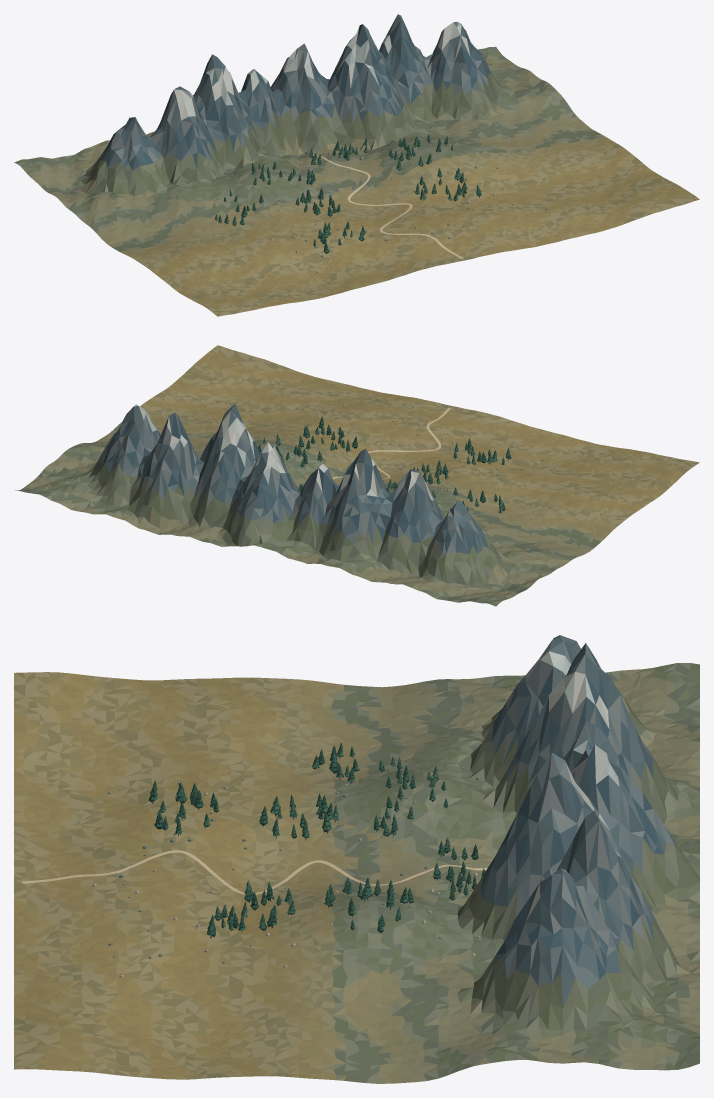
The model's file is montana-trail.glb.
3 renders of one model, top to bottom at view 1: azimuth 30°, elevation 25°; view 2: azimuth 150°, elevation 25°; view 3: azimuth 270°, elevation 25°, orthographic. The views are drawn at different scales.
Parts seen in each view (by area): view 1: Montana_Terrain, Montana_Pine_Canopies_3, Montana_Pine_Canopies_2, Montana_Pine_Canopies_1, Montana_Winding_Trail, Montana_Pine_Canopies_4; view 2: Montana_Terrain, Montana_Pine_Canopies_3, Montana_Pine_Canopies_1, Montana_Pine_Canopies_4; view 3: Montana_Terrain, Montana_Pine_Canopies_3, Montana_Pine_Canopies_1, Montana_Pine_Canopies_2, Montana_Winding_Trail, Montana_Pine_Canopies_4, Montana_Glacial_Erratics.
Boxes of the visible parts, <box> form: Montana_Terrain: <box>14,14,699,316</box>; Montana_Pine_Canopies_3: <box>215,167,481,225</box>; Montana_Pine_Canopies_2: <box>295,137,367,216</box>; Montana_Pine_Canopies_1: <box>251,161,365,253</box>; Montana_Winding_Trail: <box>313,154,463,258</box>; Montana_Pine_Canopies_4: <box>389,134,453,170</box>; Montana_Terrain: <box>15,345,699,606</box>; Montana_Pine_Canopies_3: <box>303,416,505,512</box>; Montana_Pine_Canopies_1: <box>383,438,511,497</box>; Montana_Pine_Canopies_4: <box>258,434,323,467</box>; Montana_Terrain: <box>14,635,699,1083</box>; Montana_Pine_Canopies_3: <box>207,742,401,937</box>; Montana_Pine_Canopies_1: <box>149,765,448,836</box>; Montana_Pine_Canopies_2: <box>259,793,485,900</box>; Montana_Winding_Trail: <box>22,850,487,894</box>; Montana_Pine_Canopies_4: <box>324,877,413,932</box>; Montana_Glacial_Erratics: <box>88,767,480,977</box>.
Size of the model in its own units: 224 by 49.22 by 164.
